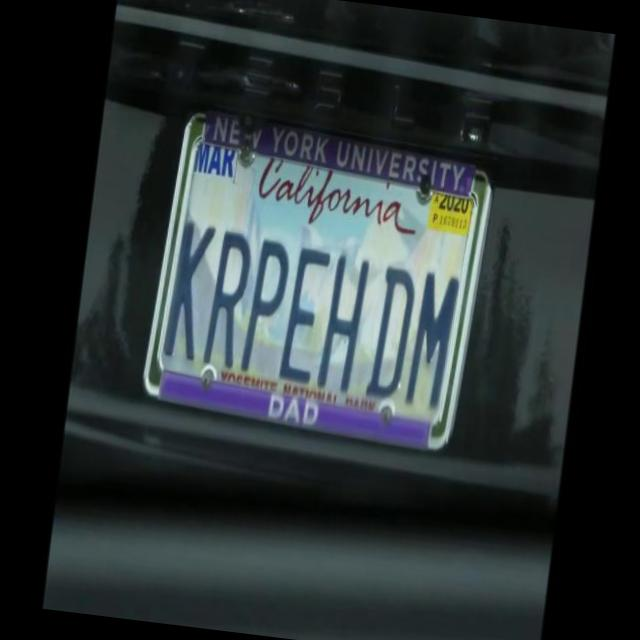LicensePlate: (142, 107, 489, 459)
